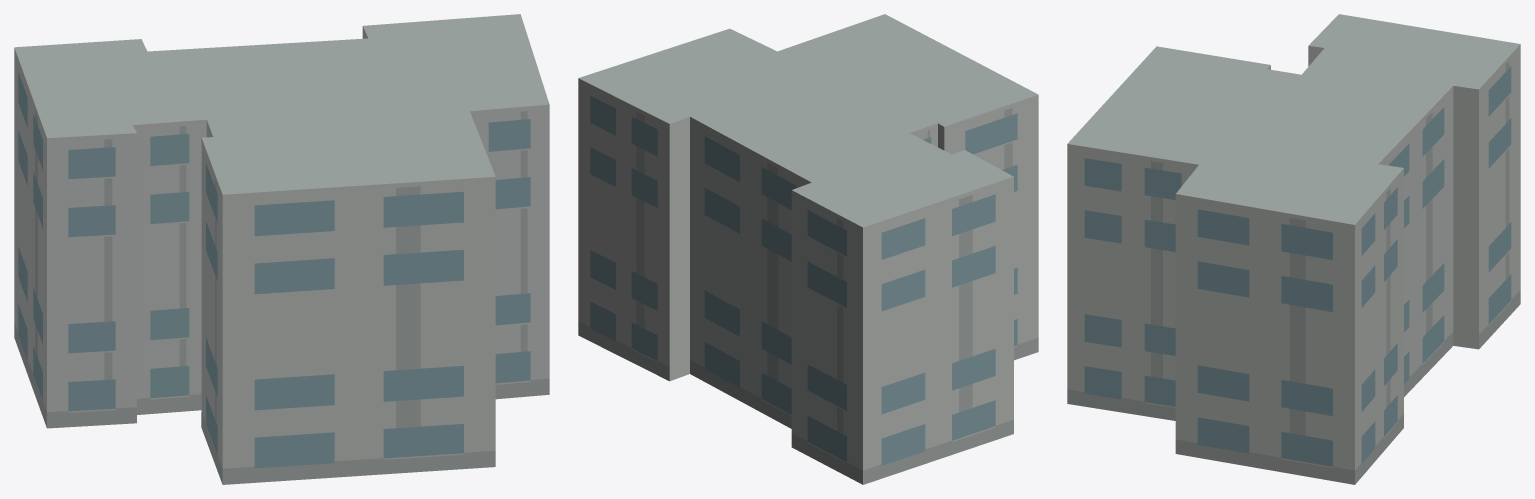
Rendered from survey-upis-32879667.glb.
3 views of the same model, side by side, from view 1: azimuth 30°, elevation 25°; view 2: azimuth 150°, elevation 25°; view 3: azimuth 270°, elevation 25° (orthographic). The views are drawn at different scales.
Visible parts, largest first — view 1: survey-upis-32879667.tmp; view 2: survey-upis-32879667.tmp; view 3: survey-upis-32879667.tmp.
Boxes of the visible parts, x1,y1,x2,y2 form: survey-upis-32879667.tmp: (14, 14, 549, 484); survey-upis-32879667.tmp: (578, 14, 1038, 484); survey-upis-32879667.tmp: (1067, 14, 1520, 484).
Size of the model in its own units: 26.55 by 15.25 by 24.11.
